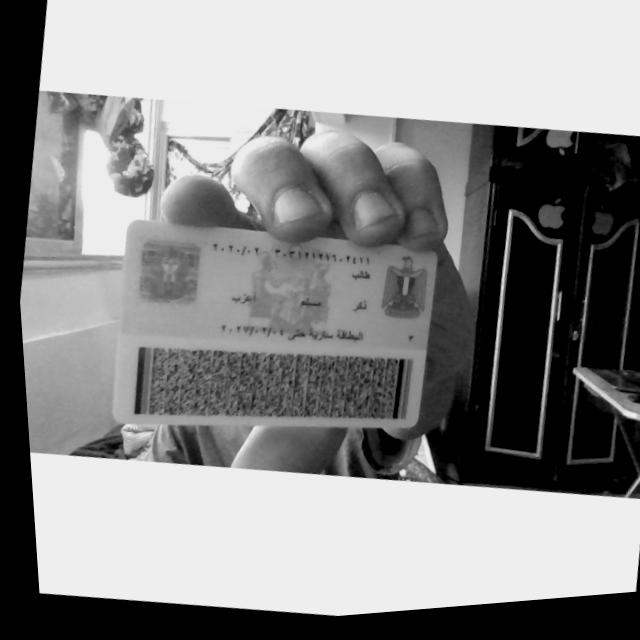id_card: (112, 220, 436, 426)
